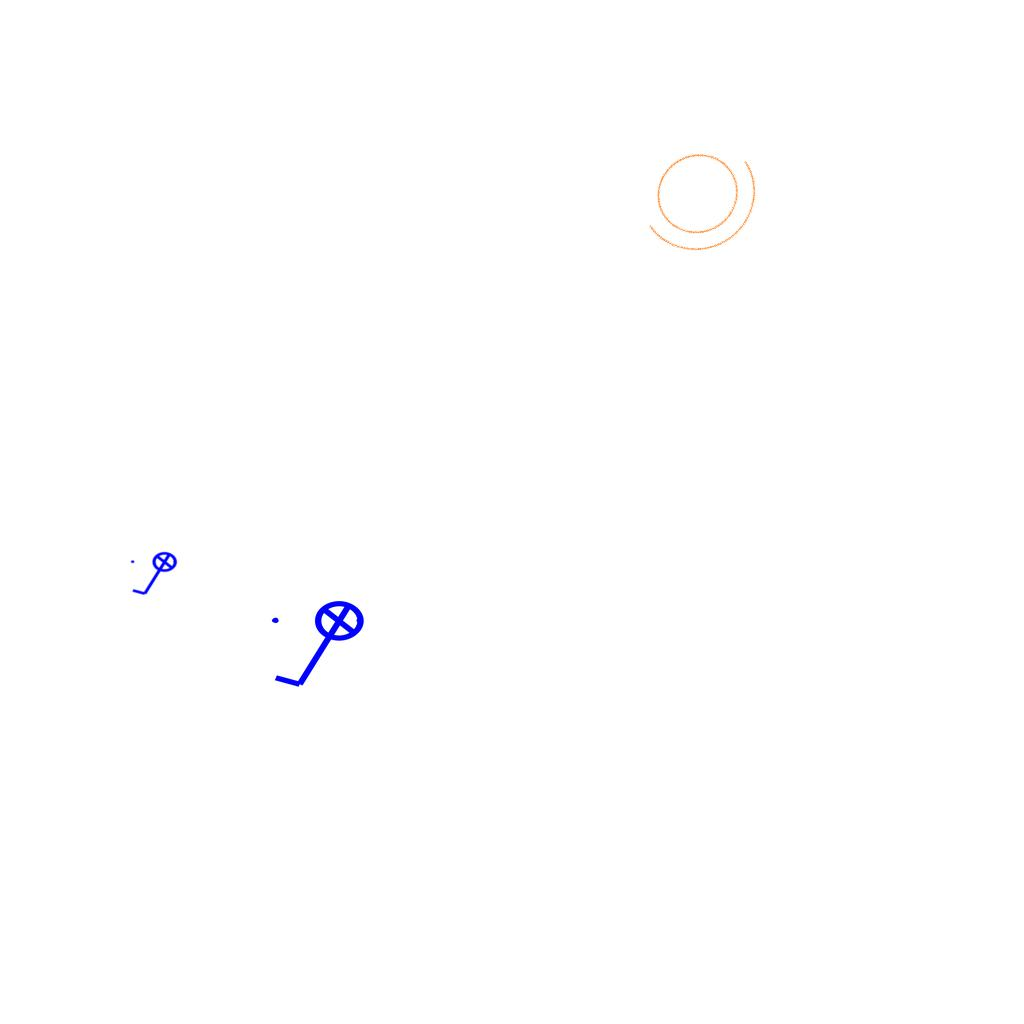Ausschalter_beleuchtet: (266, 599, 378, 695), (128, 551, 184, 599)
Scheinwerfer_fuer_Alarmbeleuchtung: (616, 112, 790, 280)
